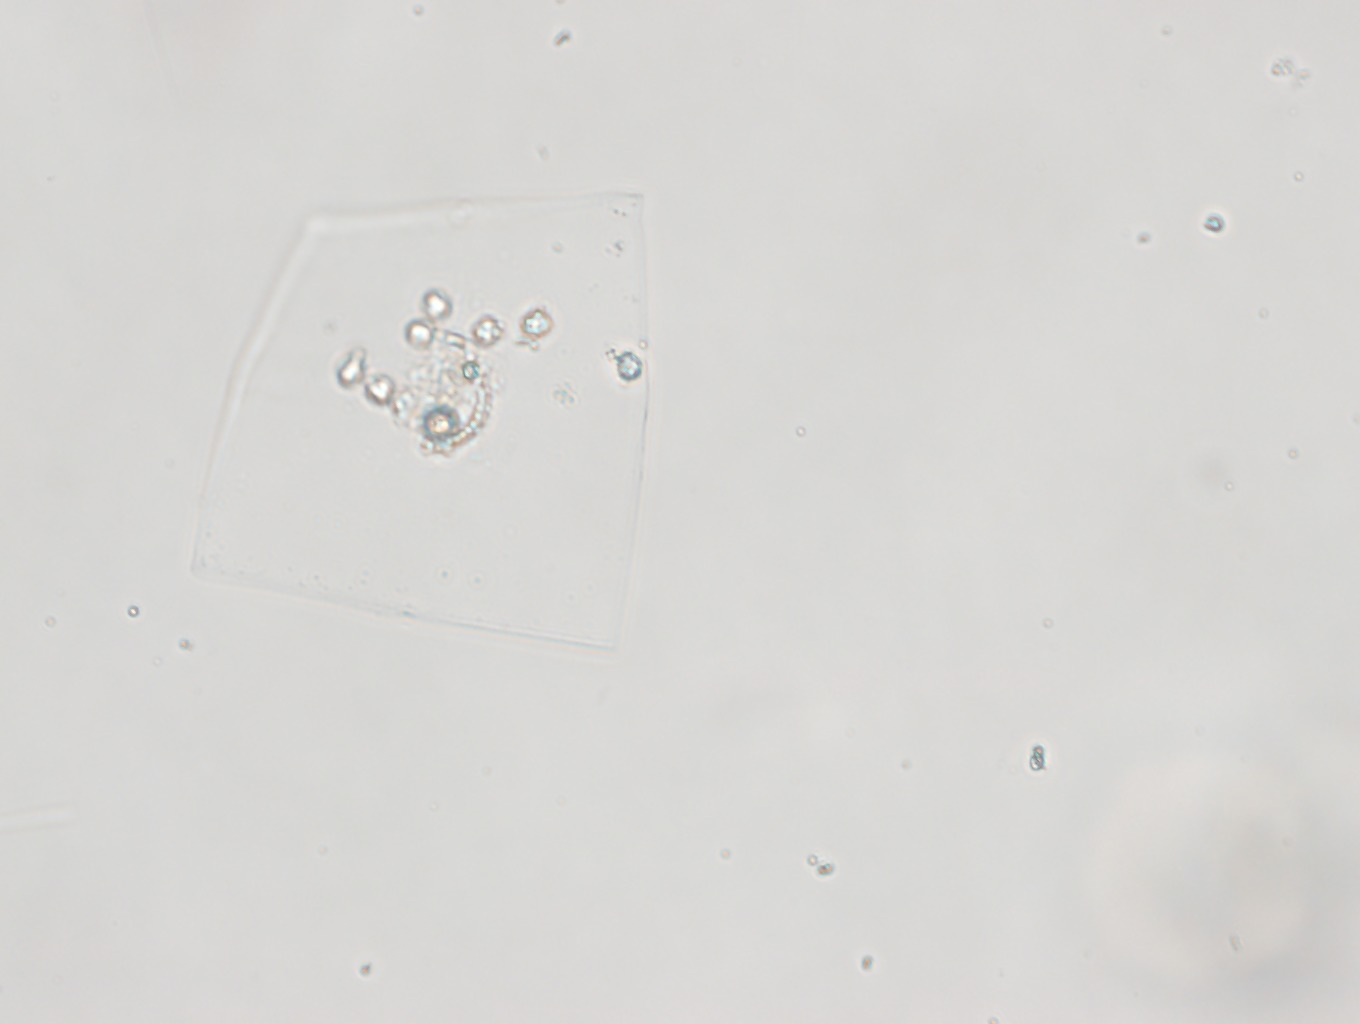helicotheca: (186, 183, 652, 649)
